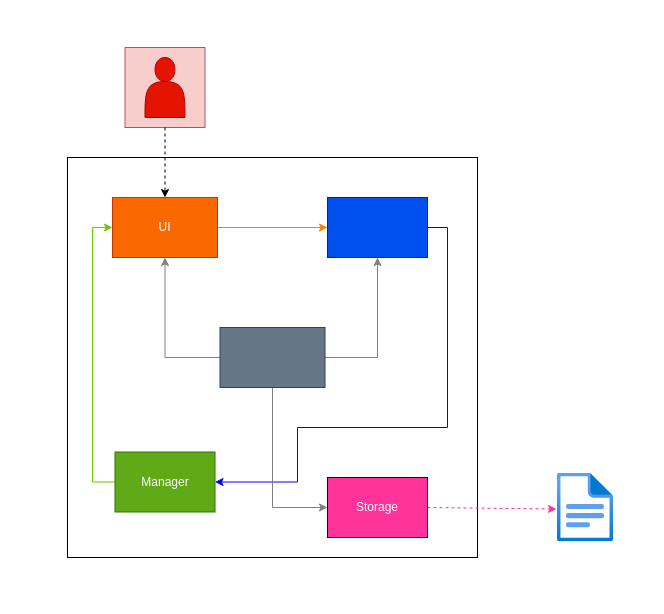
Image size: 664x614. Some labels were removed from this diagram. The centre of each missing label's shape, as x and y in pixels:
Logic: [377,227]
Main: [272,357]
